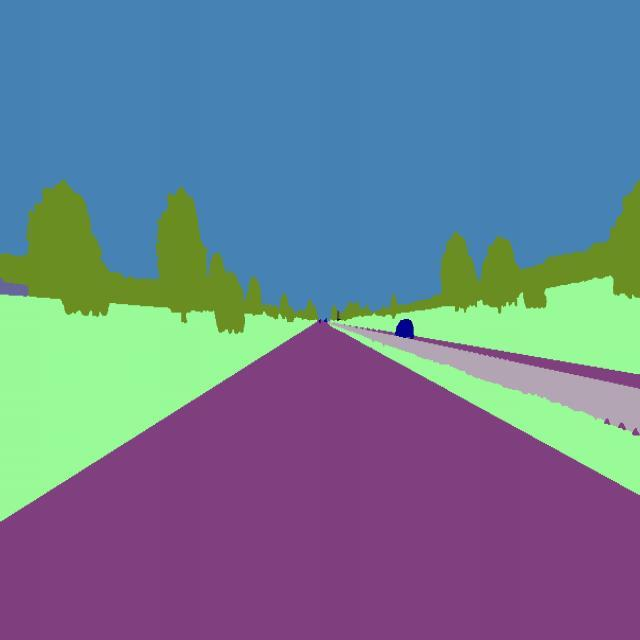safe: (392, 310, 418, 344)
